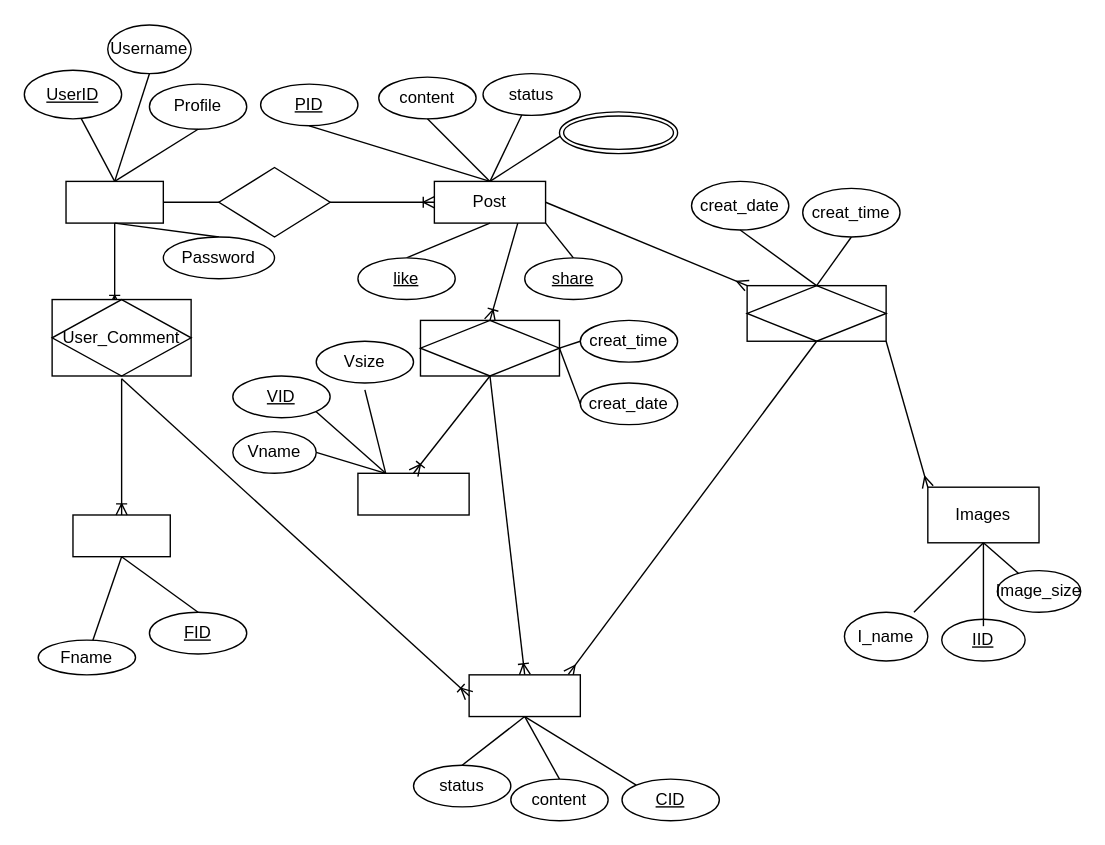
Some shapes in this 1105 by 845 pixel diagram are drawn without their labels. Each missing label, with the box of its shape:
comments: (468, 673, 580, 717)
Friend_list: (72, 514, 170, 557)
Post_images: (746, 284, 886, 341)
Post_videos: (419, 319, 559, 376)
tags: (558, 111, 678, 154)
User: (65, 180, 163, 223)
videos: (357, 472, 469, 515)
write: (218, 166, 330, 237)
